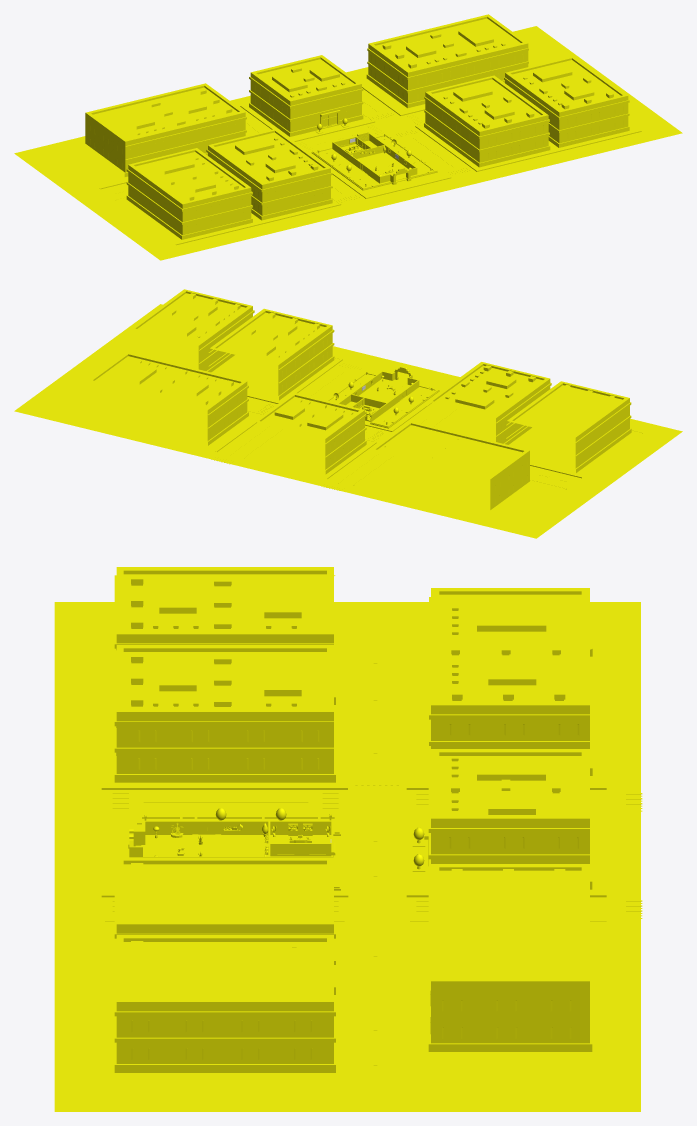
The model's file is Thanh pho.gltf.
The picture shows the model from 3 angles, top to bottom: view 1: azimuth 30°, elevation 25°; view 2: azimuth 150°, elevation 25°; view 3: azimuth 270°, elevation 25°; orthographic projection. The views are drawn at different scales.
Parts seen in each view (by area): view 1: Thanh pho, Khu vuc chinh; view 2: Thanh pho, Khu vuc chinh; view 3: Thanh pho, Khu vuc chinh.
Part boxes in pixels (x1,y1,x2,y2): Thanh pho: [14, 14, 682, 260]; Khu vuc chinh: [309, 132, 451, 198]; Thanh pho: [14, 289, 682, 538]; Khu vuc chinh: [322, 365, 449, 431]; Thanh pho: [54, 567, 642, 1111]; Khu vuc chinh: [101, 808, 348, 897].
Bounding box in the file's own units: 693 × 47.24 × 338.
2 materials, 1 textured.
